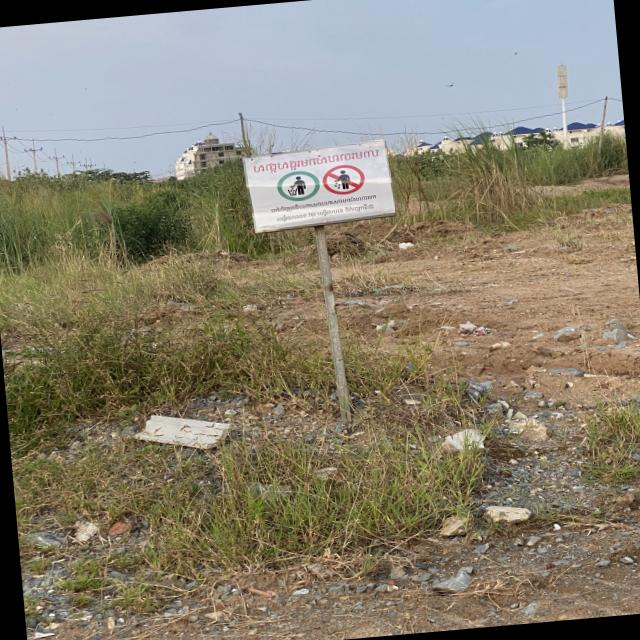3: (275, 203, 377, 223)
Yolov11_80vkh: (250, 147, 382, 177), (269, 192, 380, 215)
